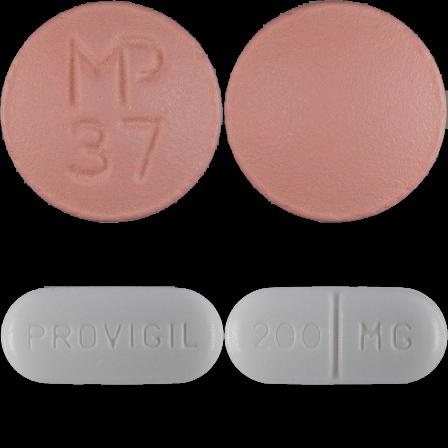43353-923: (0, 0, 224, 224)
